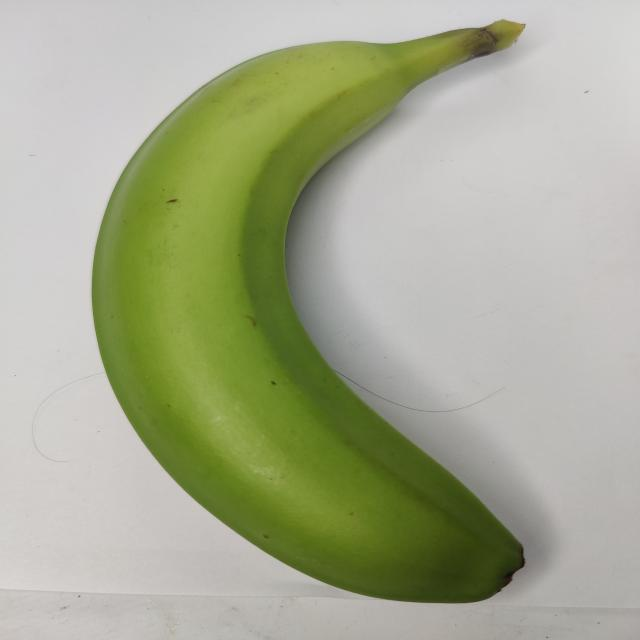raw: (70, 8, 588, 620)
